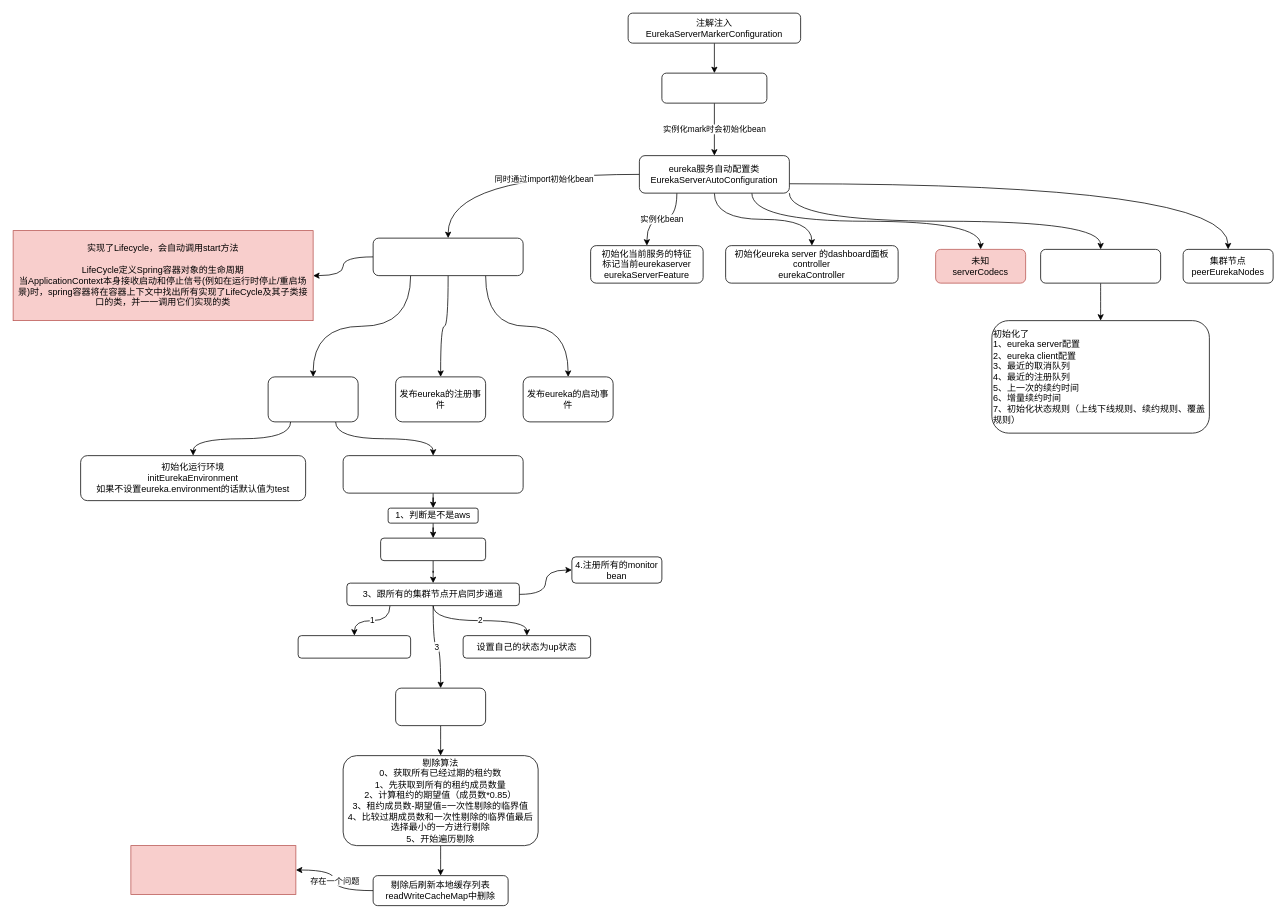
This 1286x919 diagram has some shape labels left out. The shapes that lost their labels are listed below. From the top down, each one's centre as x and y in pixels, then its label:
At pixel 714 87: "实例化bean Marker".
At pixel 447 256: "eureka服务初始化配置 EurekaServerInitializerConfiguration".
At pixel 1100 266: "启动时进行进群间同步注册 peerAwareInstanceRegistry".
At pixel 312 399: "eurekabootstrap启动初始化eureka的上下文 contextInitialized".
At pixel 432 474: "初始化eurekaserver上下文 initEurekaServerContext".
At pixel 433 549: "2、获取启动的集群节点".
At pixel 354 646: "更新每分钟心跳的期望值".
At pixel 440 706: "postinit 启动续约定时任务和剔除定时任务".
At pixel 213 869: "read-only-response-cache中存储的节点数据并不会立马被剔除，而是等着定时器同步，会出现三级缓存滞后的问题".
